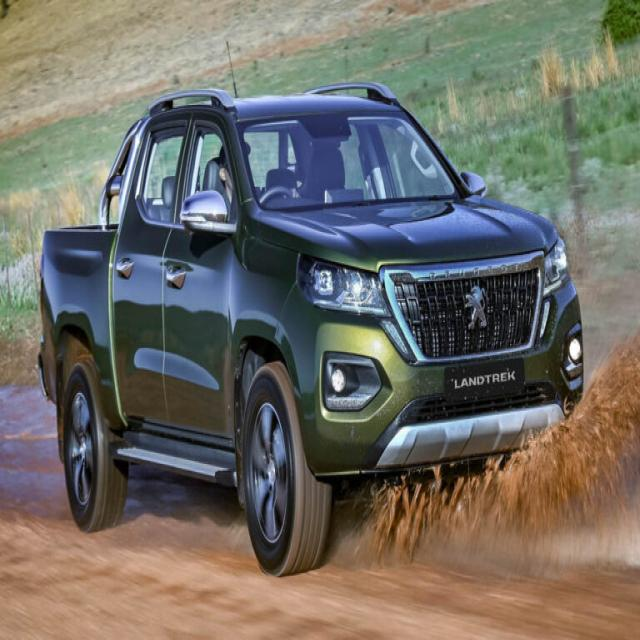Pickup Trucks: (40, 81, 585, 578)
